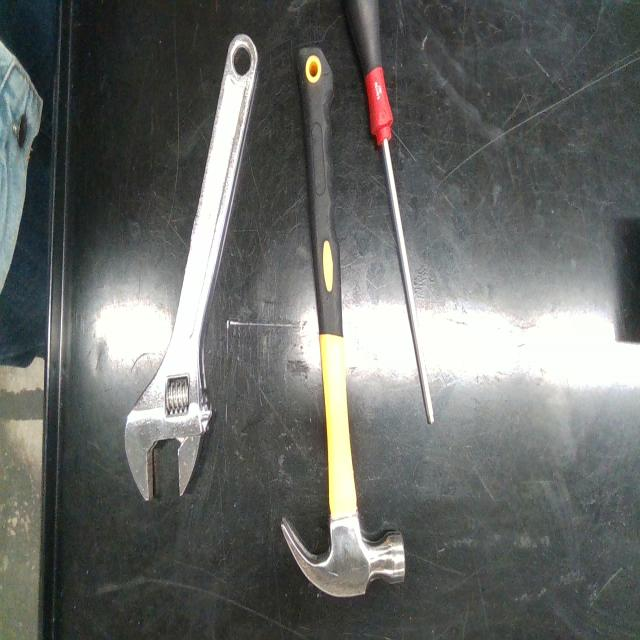Screwdriver: (345, 0, 434, 424)
